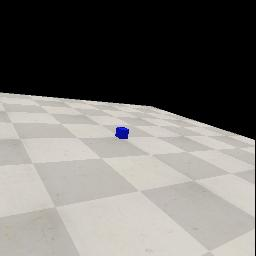box: (115, 127, 129, 139)
